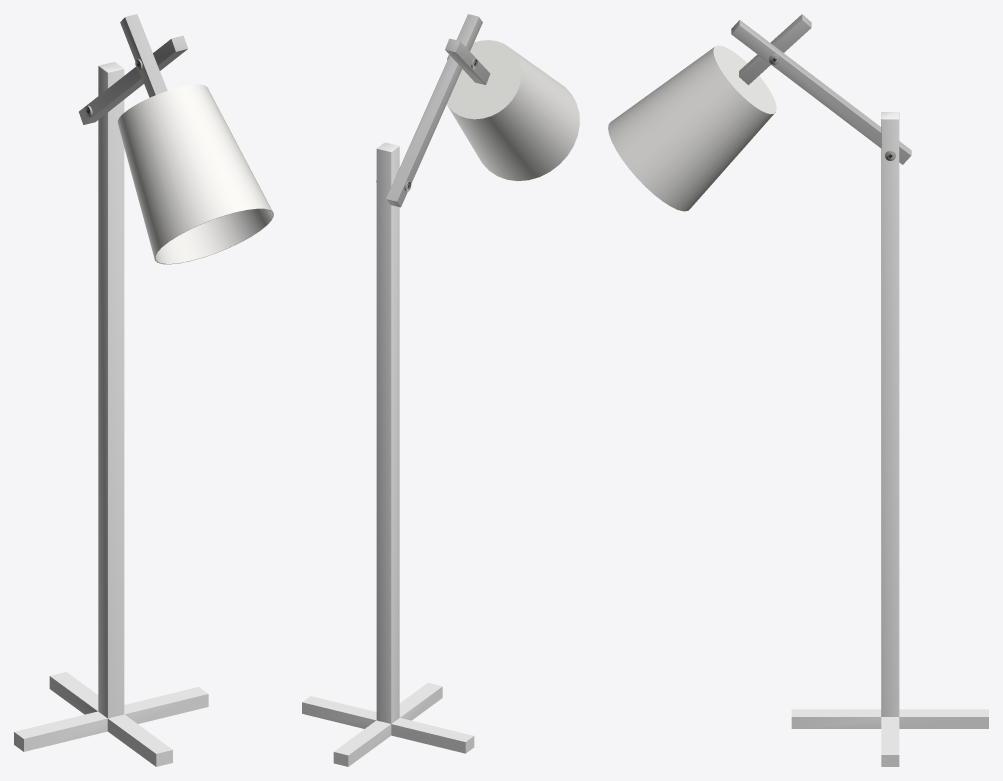
The model's file is Standing lamp.fbx.
3 renders of one model, left to right at view 1: azimuth 30°, elevation 25°; view 2: azimuth 150°, elevation 25°; view 3: azimuth 270°, elevation 25°, orthographic. The views are drawn at different scales.
Visible parts, largest first — view 1: Standing lamp; view 2: Standing lamp; view 3: Standing lamp.
Part boxes in pixels (x1,y1,x2,y2): Standing lamp: (14,14,273,766); Standing lamp: (302,14,579,766); Standing lamp: (608,14,988,766).
Bounding box in the file's own units: 381 × 1483 × 735.
